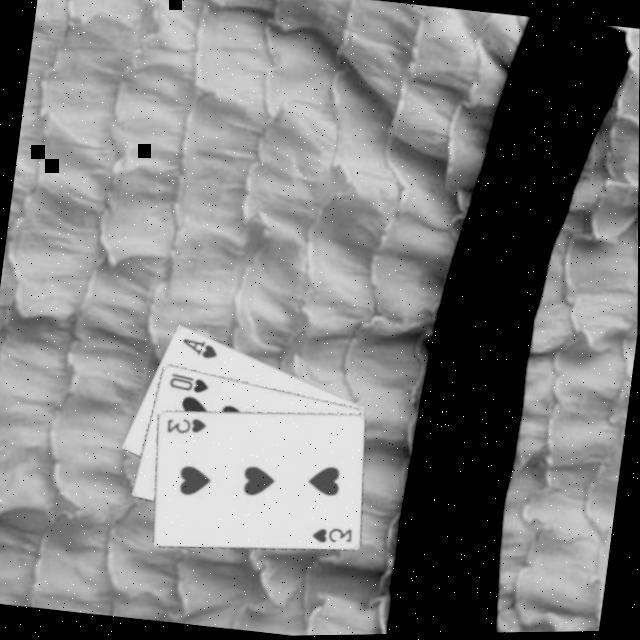10H: (168, 369, 215, 398)
3H: (164, 412, 212, 442), (310, 522, 358, 550)
AH: (178, 334, 224, 364)
